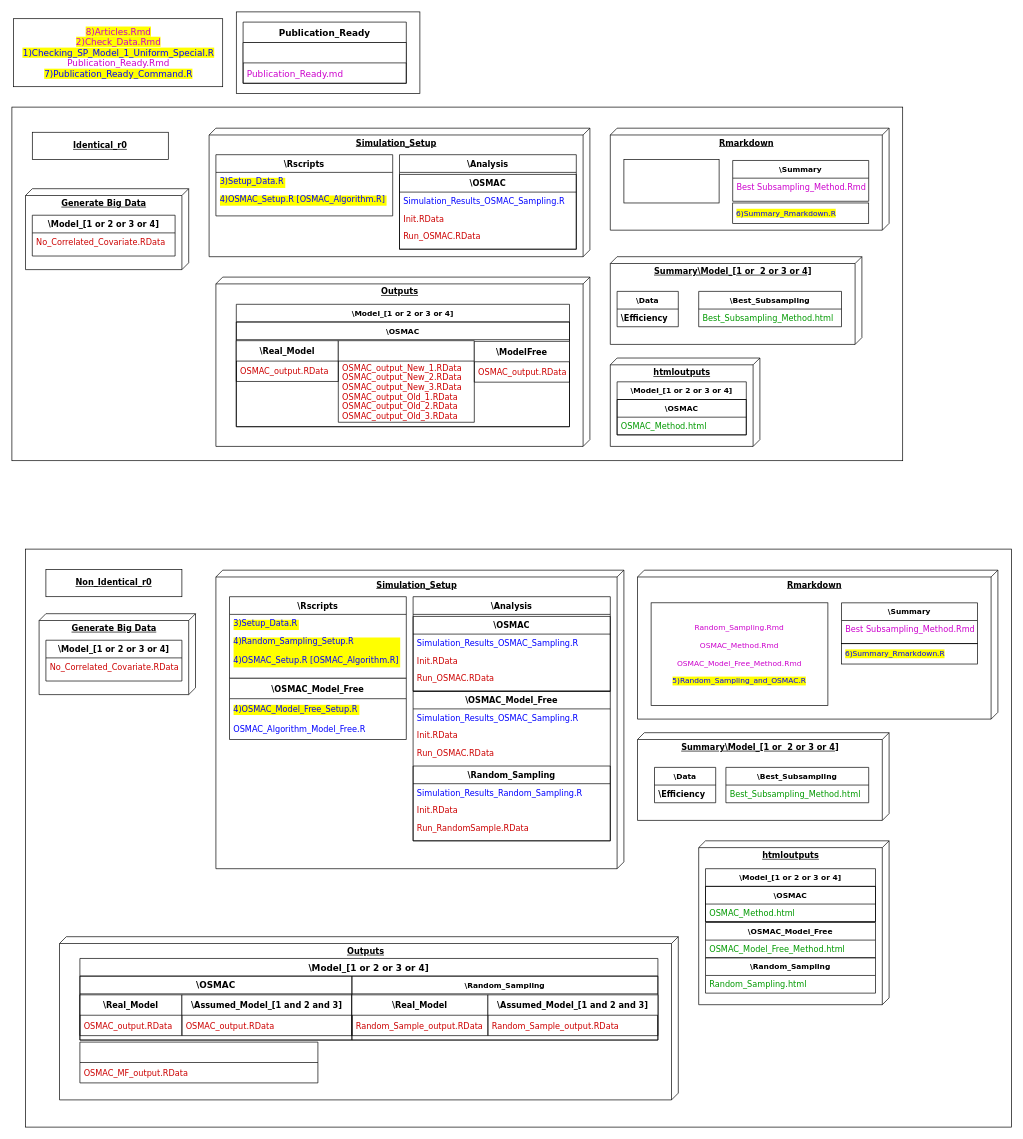
Some shapes in this 1023 by 1139 pixel diagram are drawn without their labels. The shapes that lost their labels are listed below. From the top down, each one's box as (x1, y1, x2, y2) in pixels, then its label:
(242, 42, 406, 83): \Model_[1 and 2 and 3 and 4]
(623, 159, 719, 203): OSMAC_Method.Rmd 5)OSMAC_Command.R
(338, 340, 474, 422): \Assumed_Model
(79, 1041, 318, 1083): \OSMAC_ModelFree
